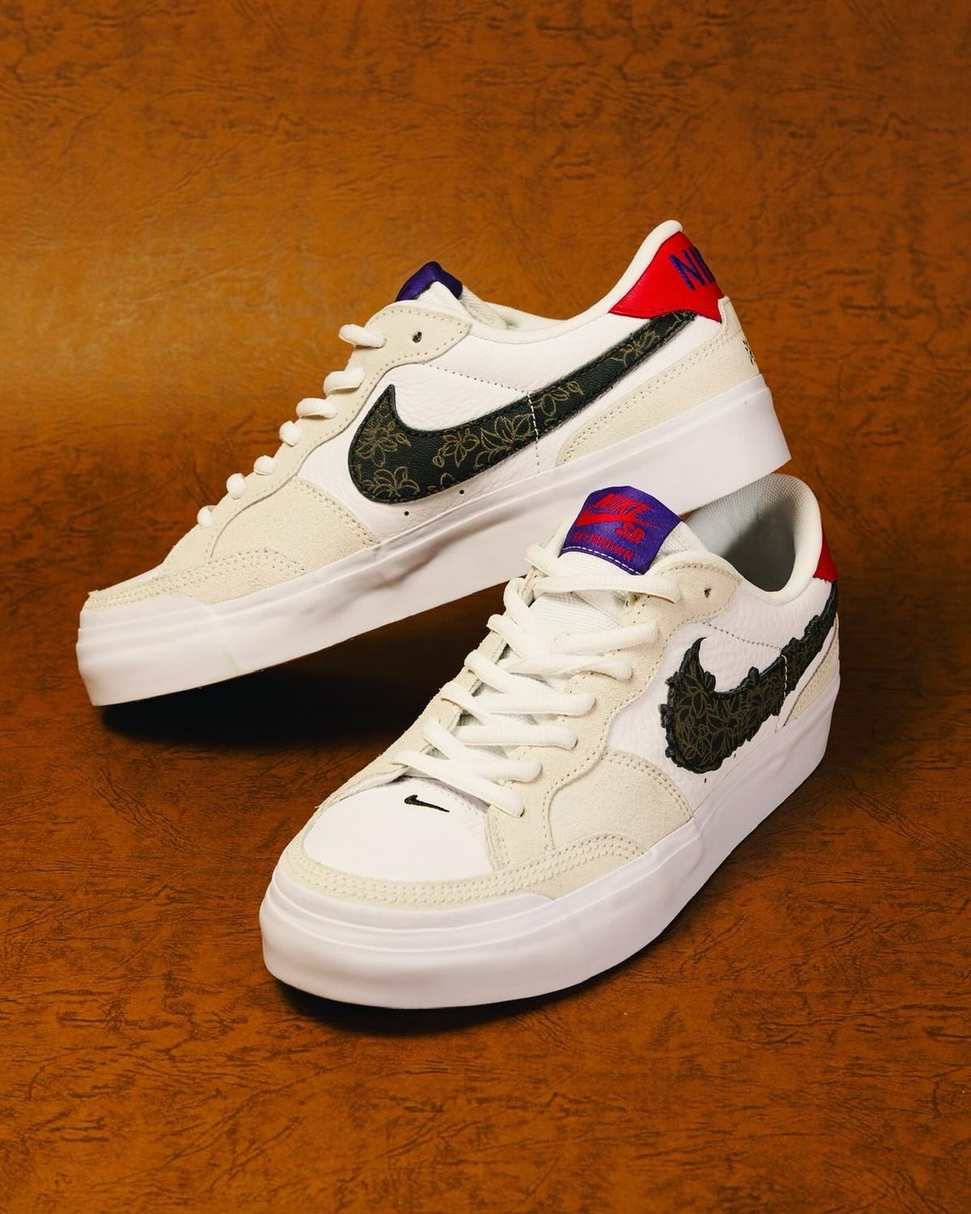nike_pogo_plus_japanese_roots: (65, 217, 793, 709), (234, 482, 844, 1011)
